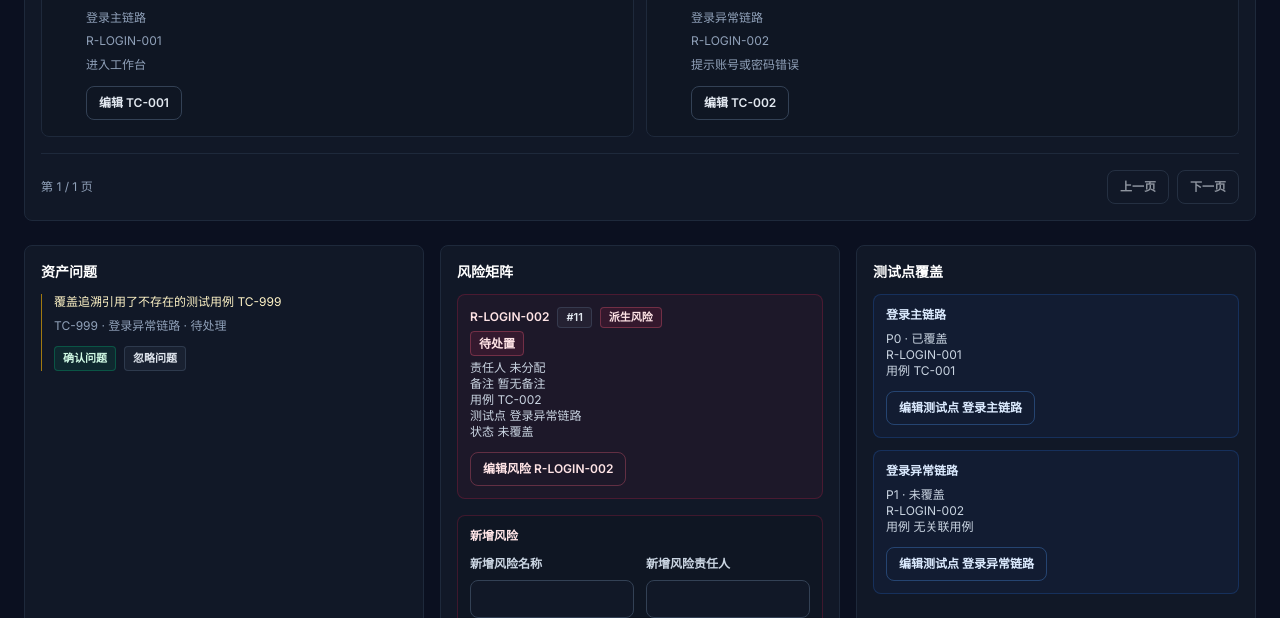
TestAssetsPage › triages asset issues in the asset center
(page scrolled)
Expected: the text "覆盖追溯引用了不存在的测试用例 TC-999" is shown, [54,294,281,309]
Click the button "确认问题" at (85, 358), box [54,346,116,371]
(page scrolled)
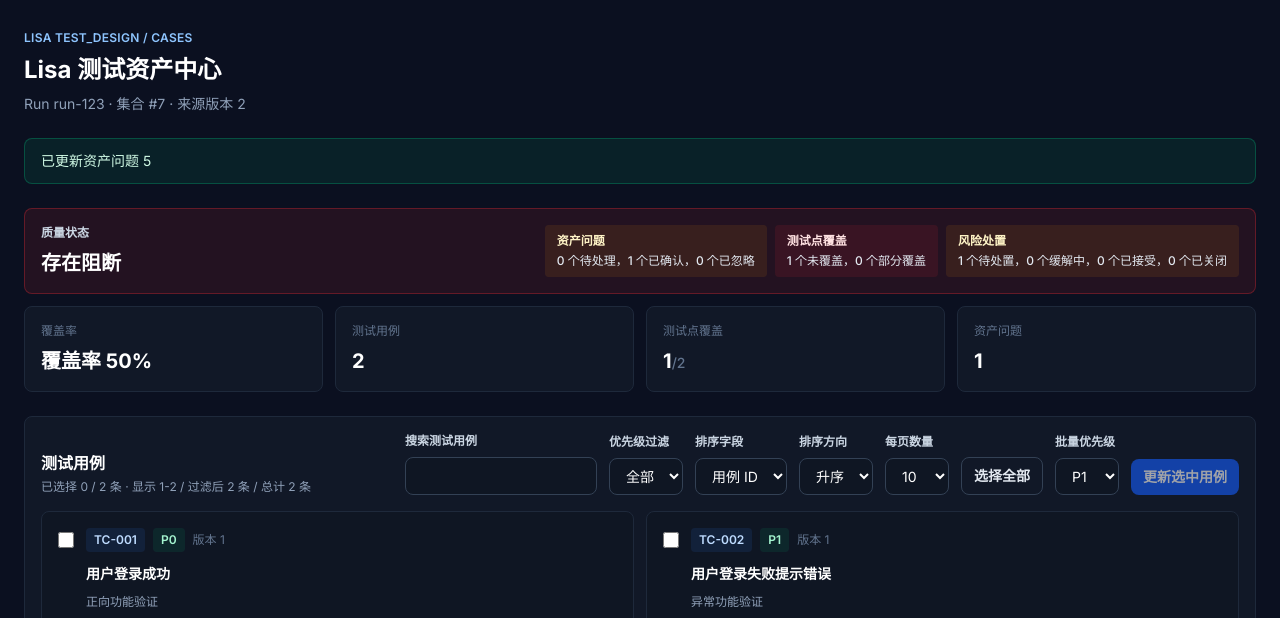
Expected: the text "0 个待处理，1 个已确认，0 个已忽略" is shown, [557,253,755,269]
